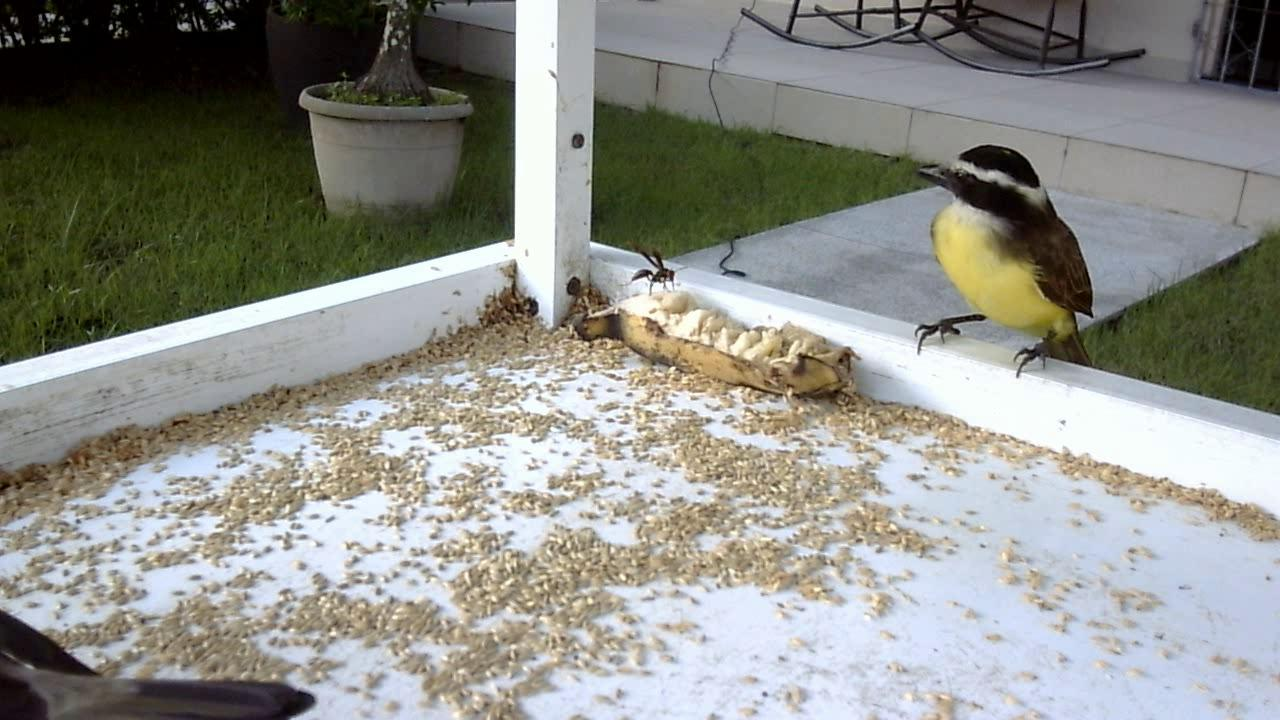bem_te_vi: (884, 133, 1114, 398)
